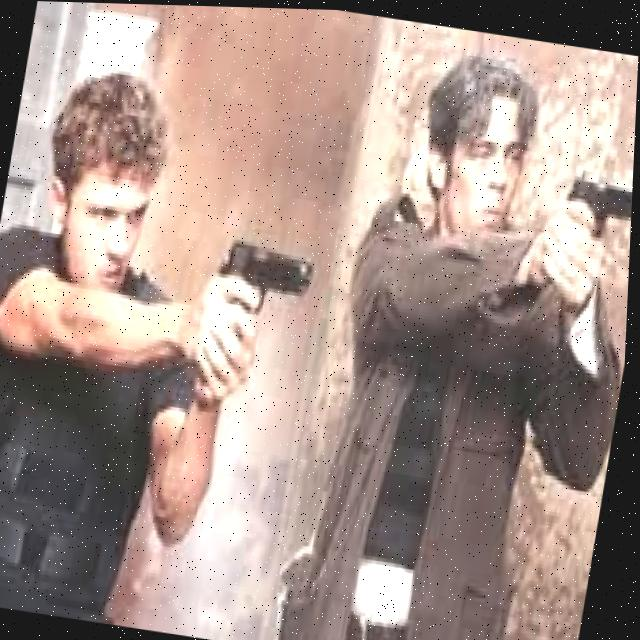pistol: (211, 232, 322, 324), (560, 161, 635, 242)
